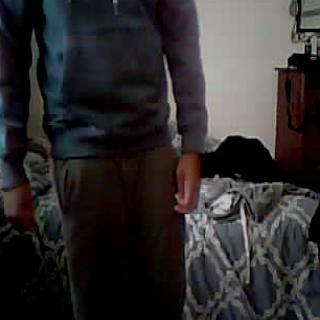Blue Hoodie: (0, 0, 202, 146)
Gray Sweatpants: (60, 151, 180, 320)
